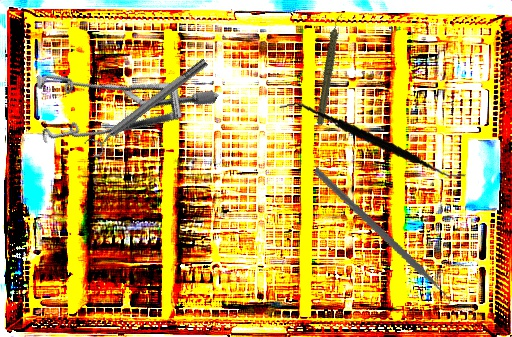Chopper: (291, 166, 472, 317)
Fixation Ring: (82, 53, 214, 160)
Handpiece: (294, 12, 367, 127)
Spatula Surgical: (279, 81, 466, 201)
Speculum: (10, 13, 220, 205)
